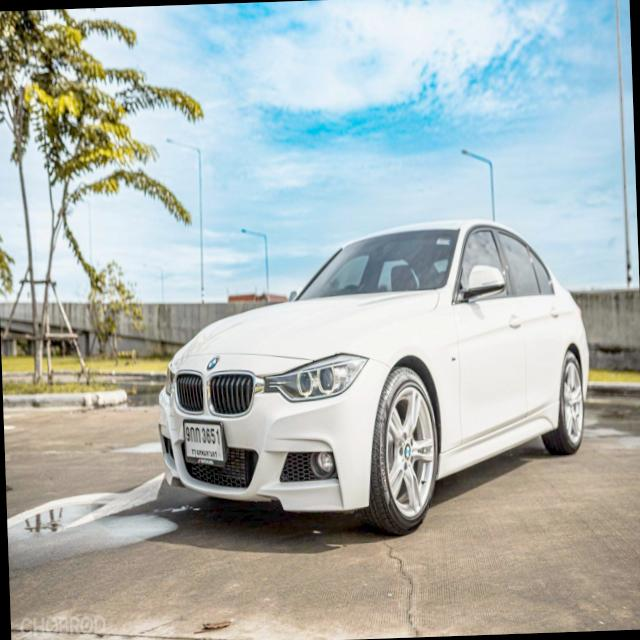license_plate: (181, 413, 228, 471)
